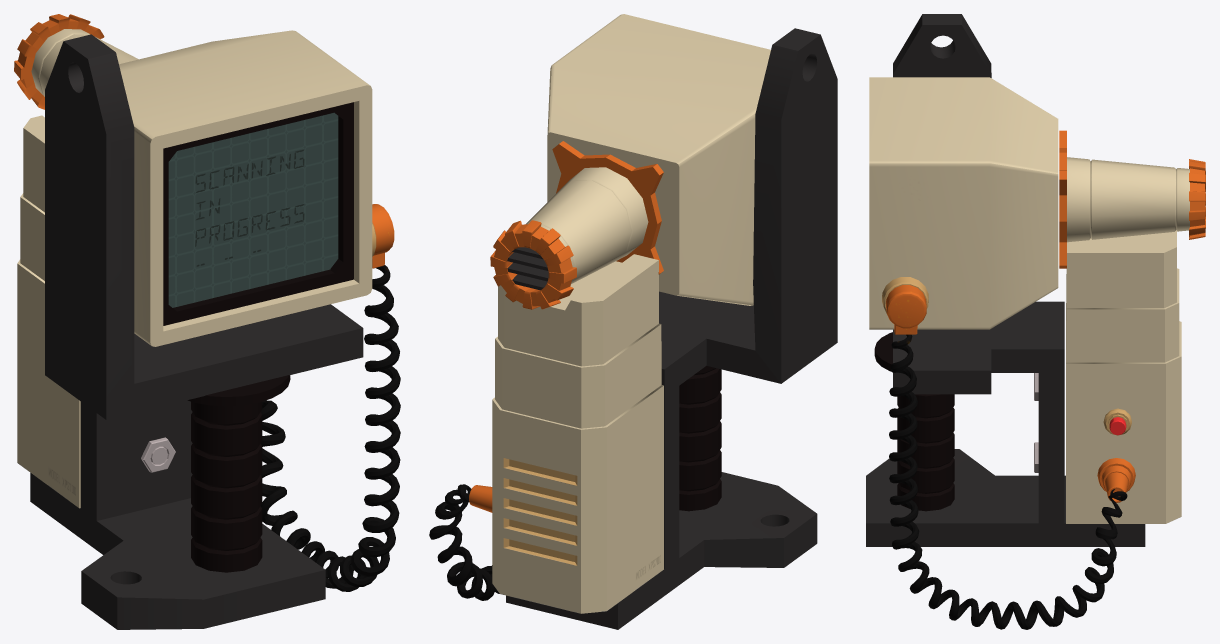
File: analyzer.fbx
3 views of the same model, side by side, from view 1: azimuth 30°, elevation 25°; view 2: azimuth 150°, elevation 25°; view 3: azimuth 270°, elevation 25° (orthographic). The views are drawn at different scales.
Visible parts, largest first — view 1: scanner; view 2: scanner; view 3: scanner.
Boxes of the visible parts, bbox=[...] form: scanner: bbox=[14, 14, 400, 629]; scanner: bbox=[429, 14, 837, 629]; scanner: bbox=[866, 14, 1205, 629].
Bounding box in the file's own units: 2609 × 5053 × 3089.
1 material, 1 textured.
